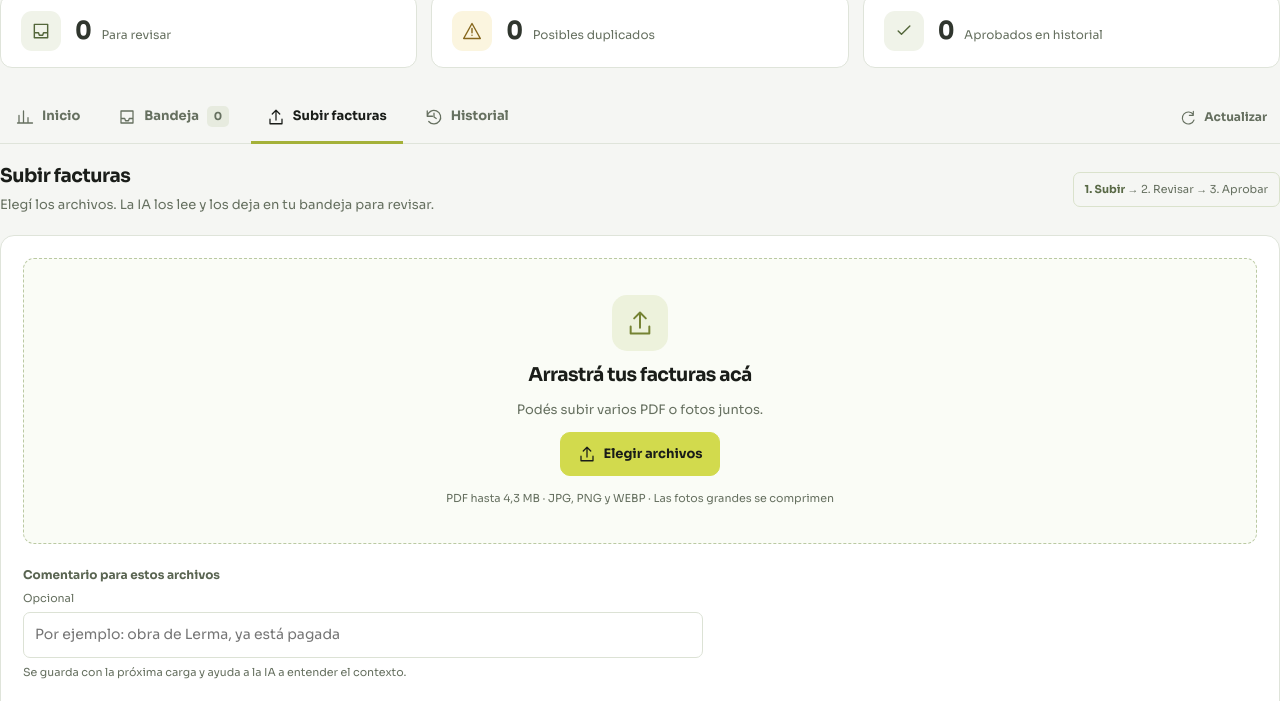
it: recorrido de revisión › una subida termina y conserva su resultado aunque se cambie de sección
Earlier steps of the test are not shown.
Later steps or results of the test are not shown.
Click the button "Bandeja 0" at [174, 118], box [102,92,245,144]
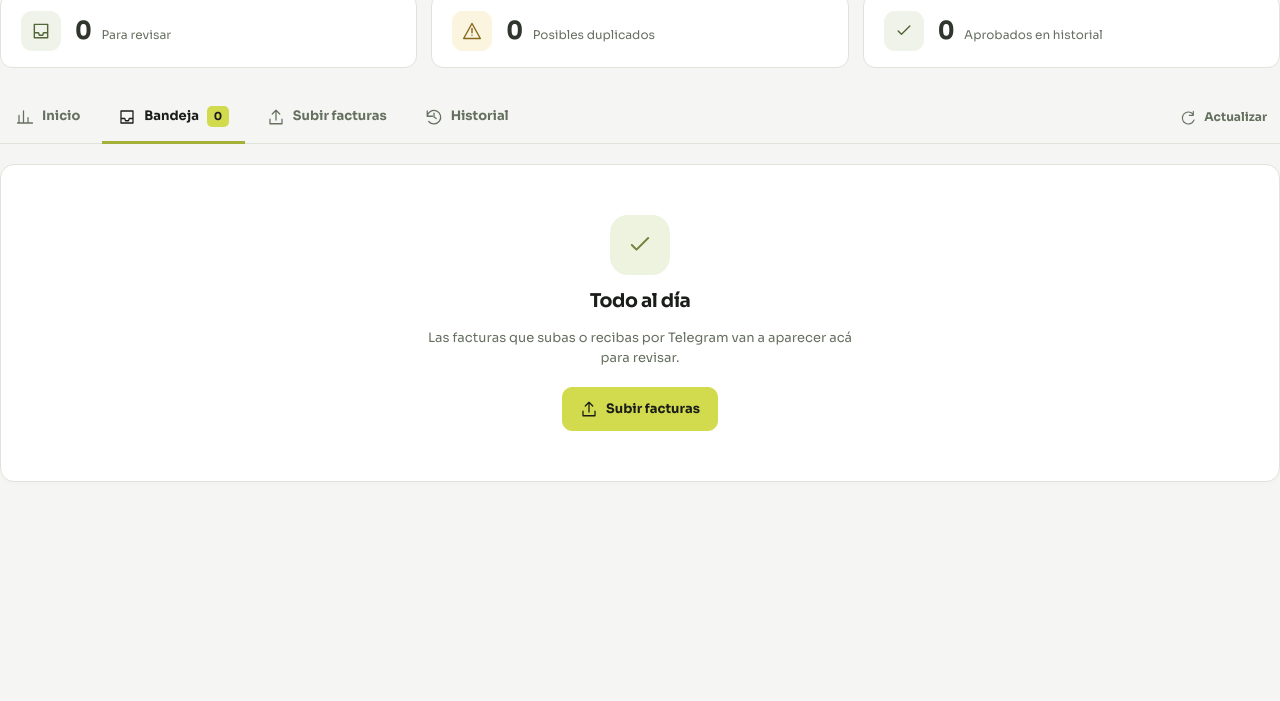
Click the 1st button "Subir facturas" at [327, 118], box [251,92,403,144]
(page scrolled)
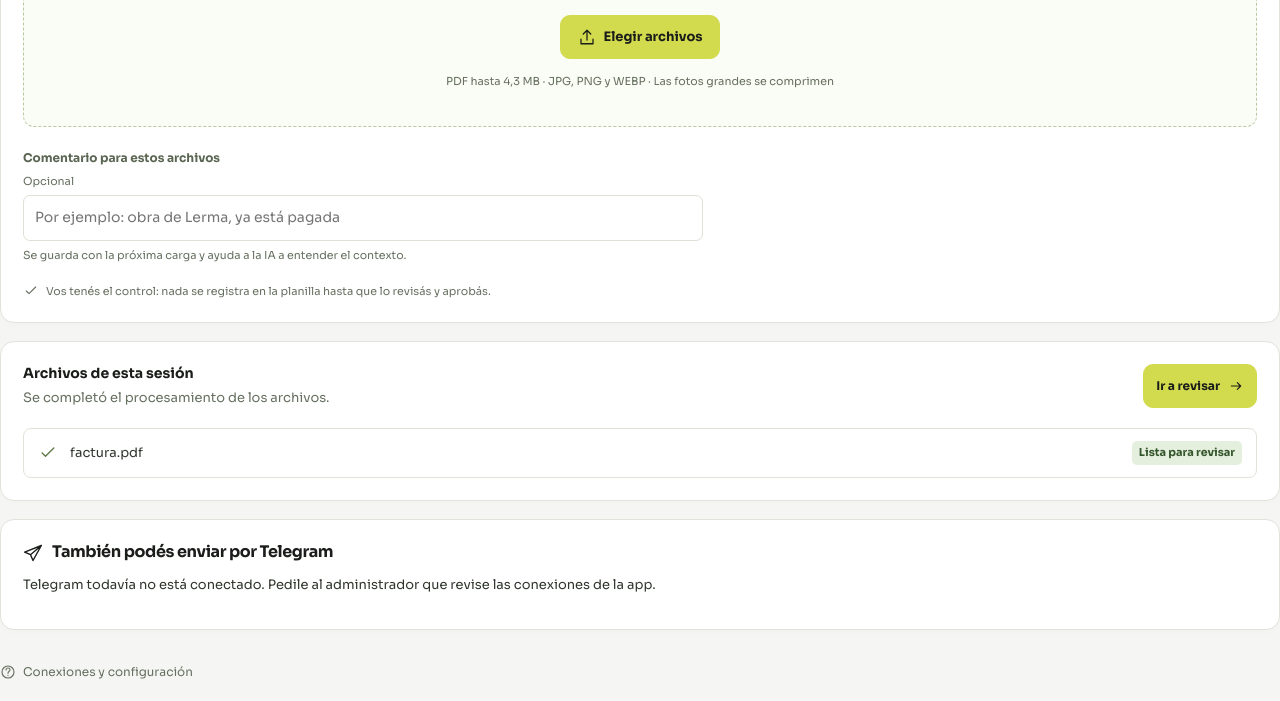
Now the text "Lista para revisar" is shown, box [1132,441,1242,465]
Now the text "factura.pdf" is shown, box [70,444,143,461]
